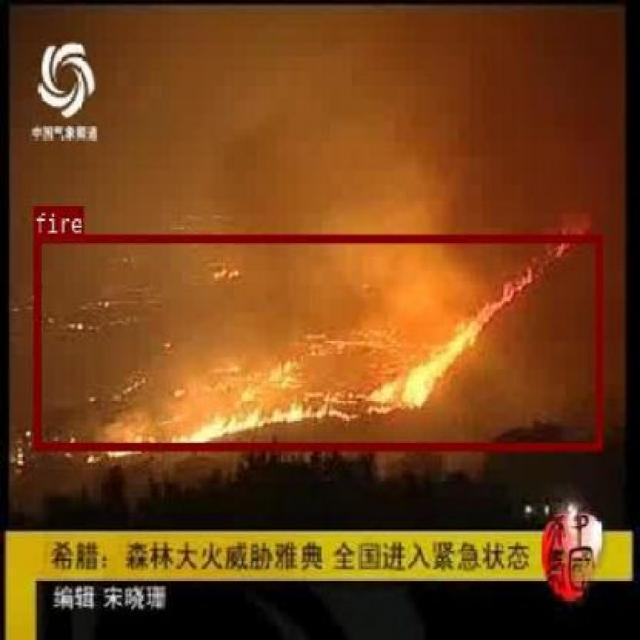fire: (33, 234, 601, 448)
